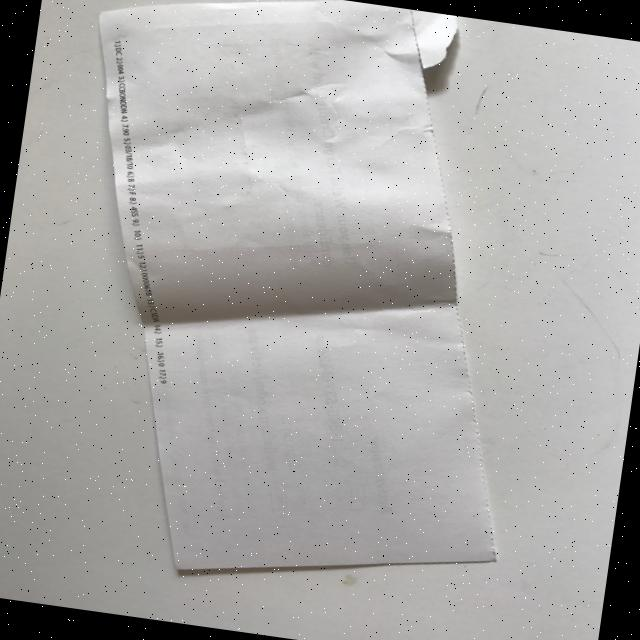paper: (22, 0, 572, 615)
